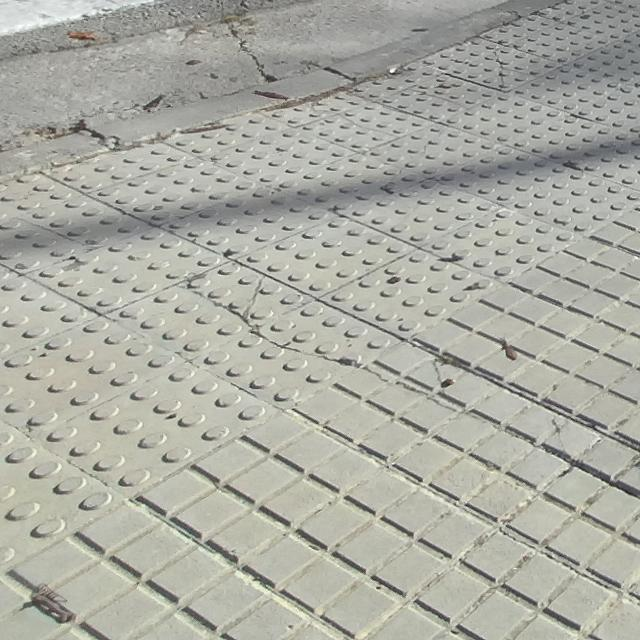calcada_quebrada: (174, 265, 371, 374), (467, 49, 525, 93)
